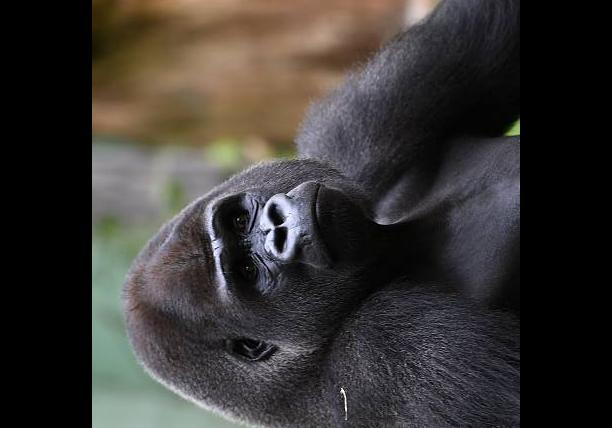gorille_Autres: (100, 2, 503, 428)
